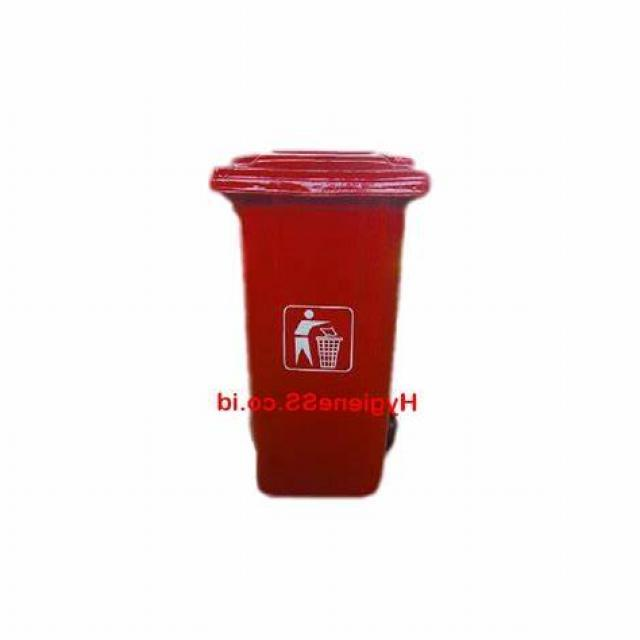garbage container: (136, 121, 442, 582)
